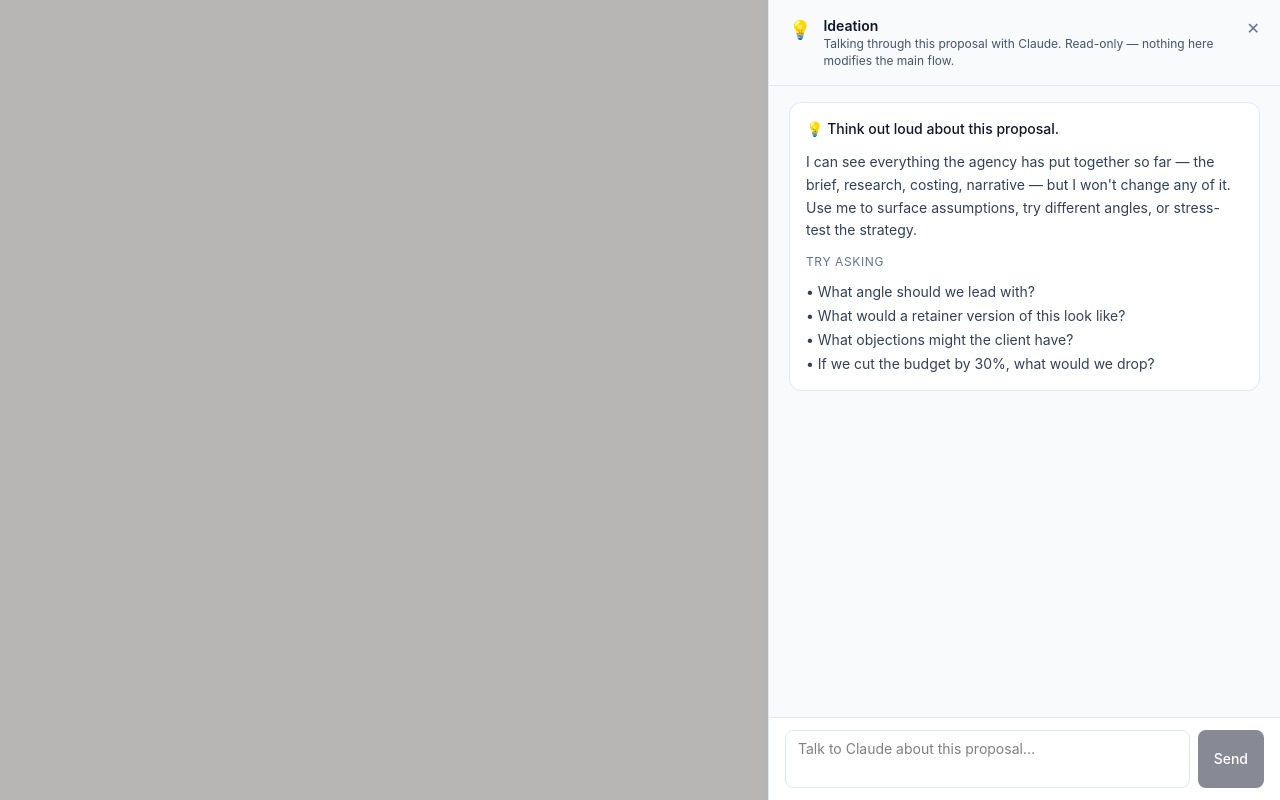
Test: IdeationDrawer › posts the input to the send endpoint
Type "will retainer work?" into the text box with placeholder "Talk to Claude about this proposal…".
click(987, 759); type("will retainer work?")  # box x1=785 y1=730 x2=1190 y2=788
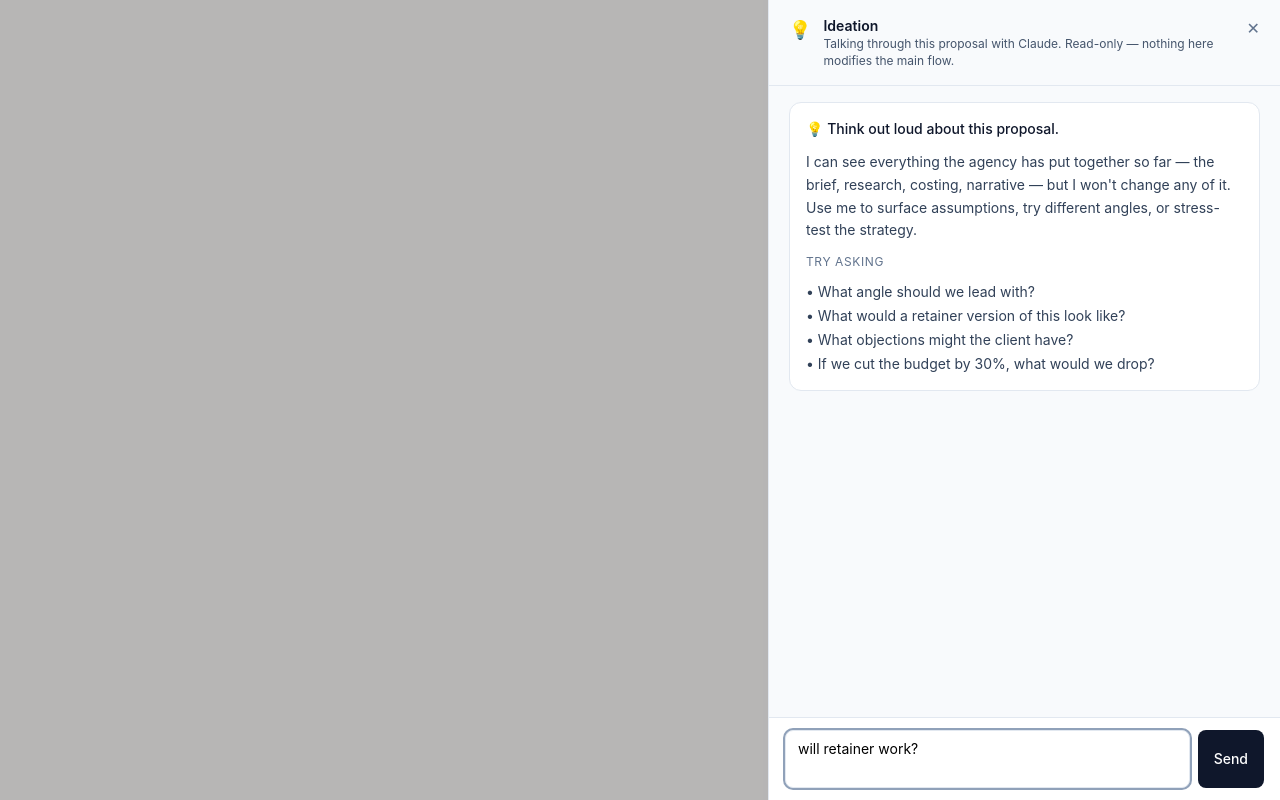
Click the button "Send".
click(1231, 759)  # box x1=1198 y1=730 x2=1264 y2=788
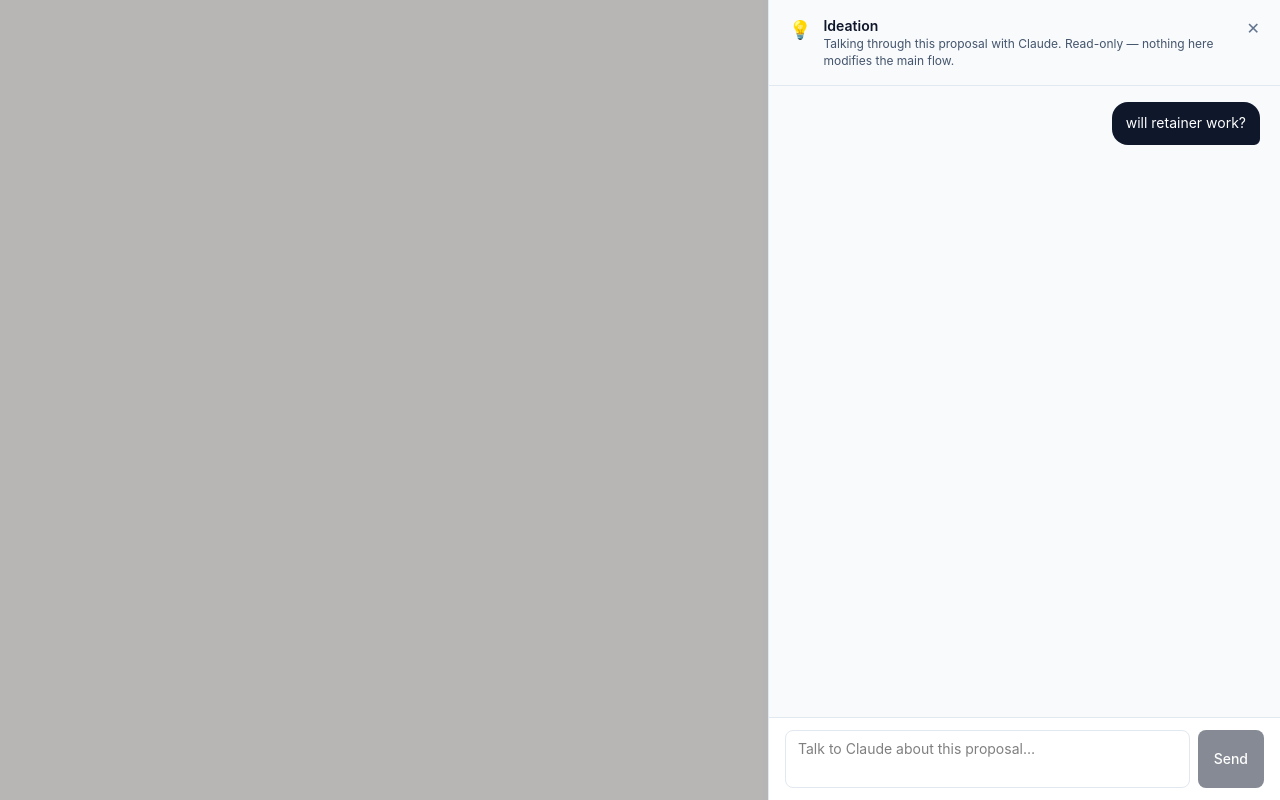
Expected: the text "will retainer work?" is shown, x1=1112 y1=102 x2=1260 y2=145
